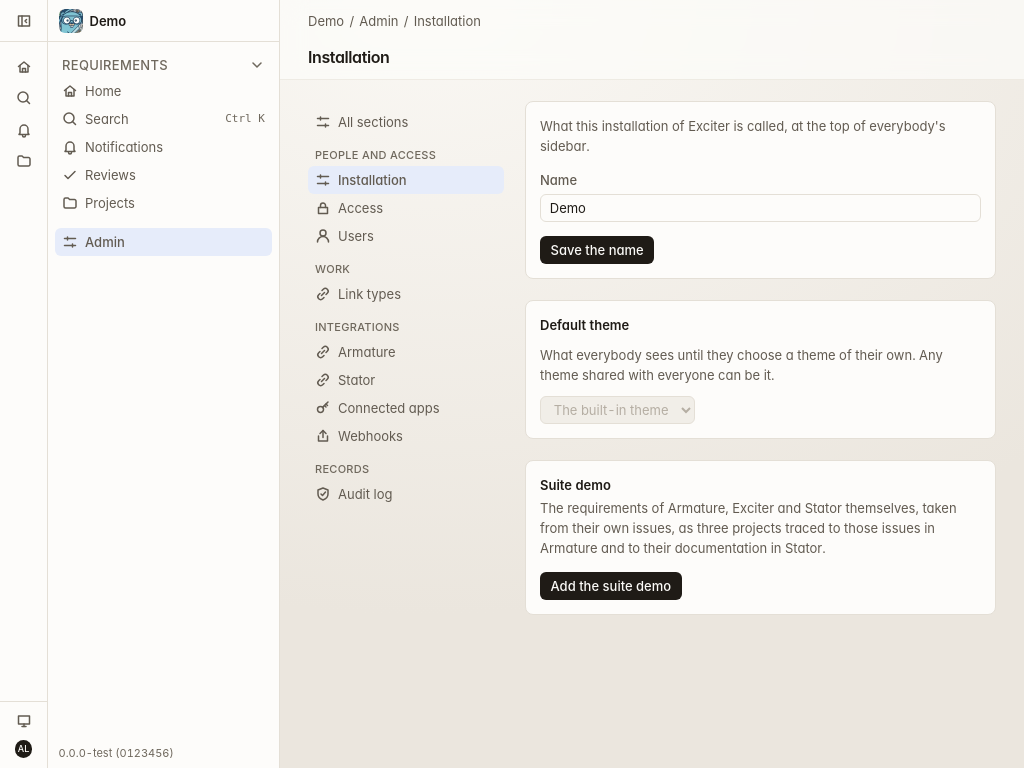
Test: the installation page › says which key keeps the suite demo out
The width and height of the screenshot is (1024, 768).
What coordinates should you click on to do the following:
click the button "Add the suite demo"
I would click on:
 (611, 586)
Its box is [540, 572, 682, 600].
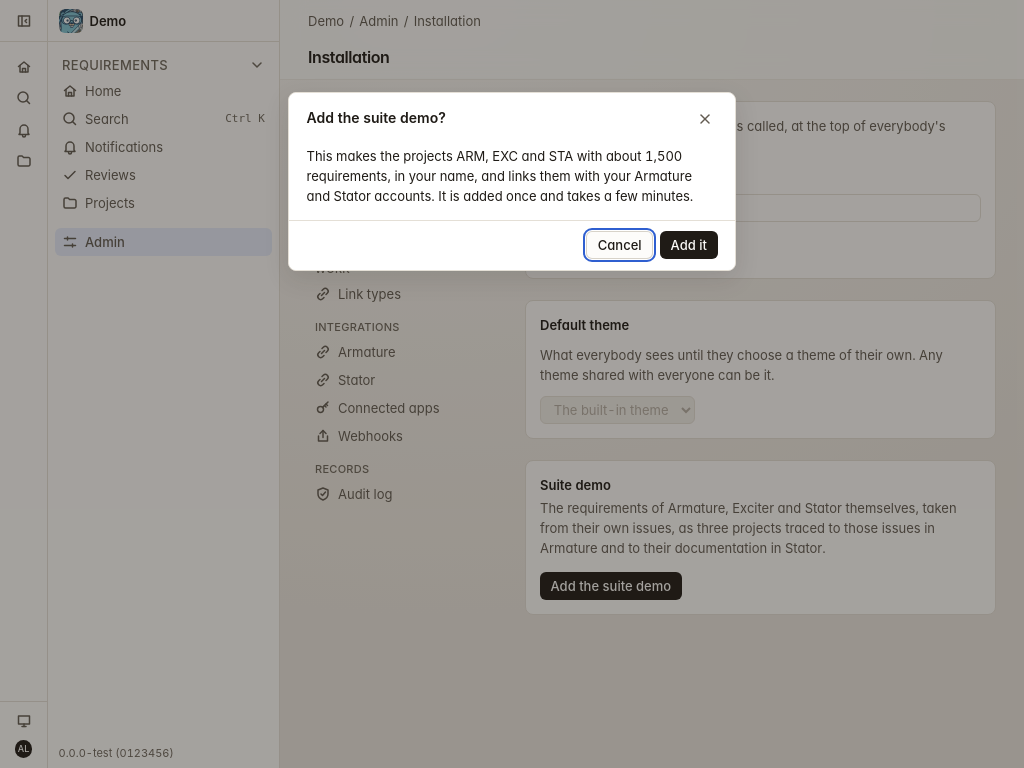
What coordinates should you click on to do the following:
click the button "Add it"
I would click on:
 (689, 245)
Its box is [660, 231, 718, 259].
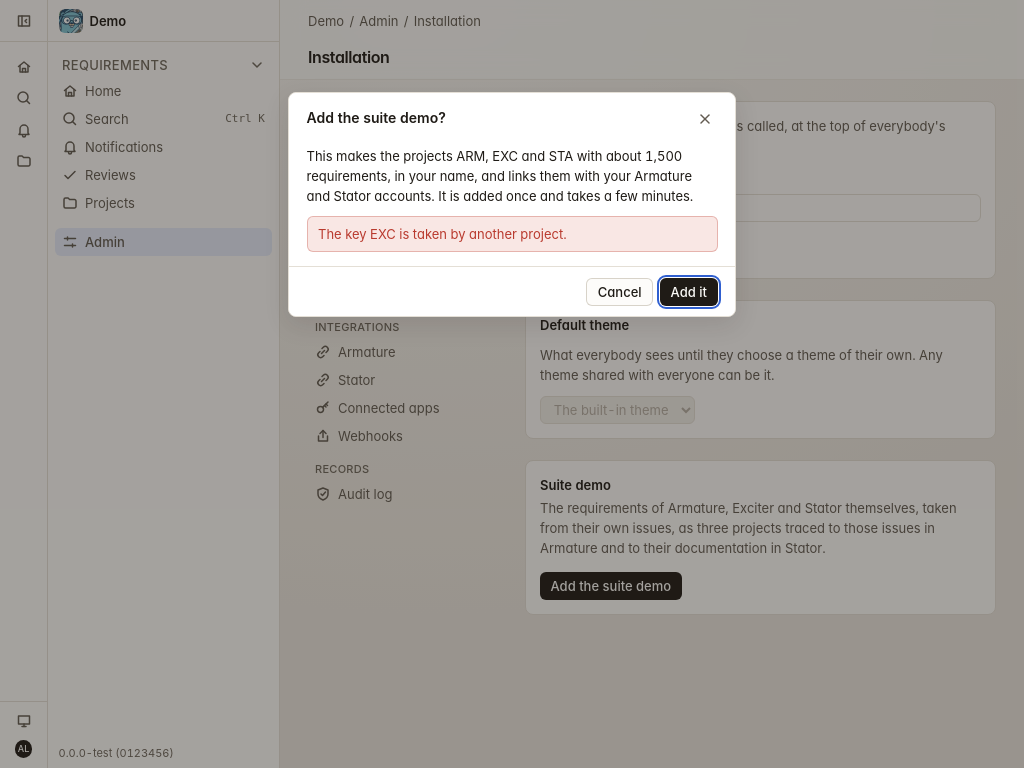
Result: the text "The key EXC is taken by another project." is shown at [318, 226, 567, 242]
